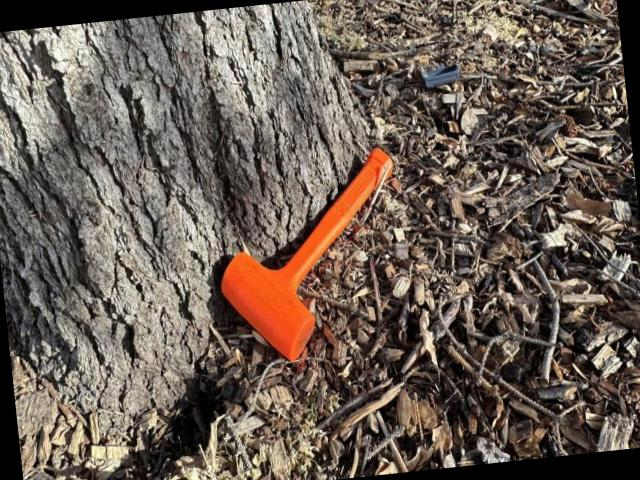hammer: (206, 148, 413, 368)
